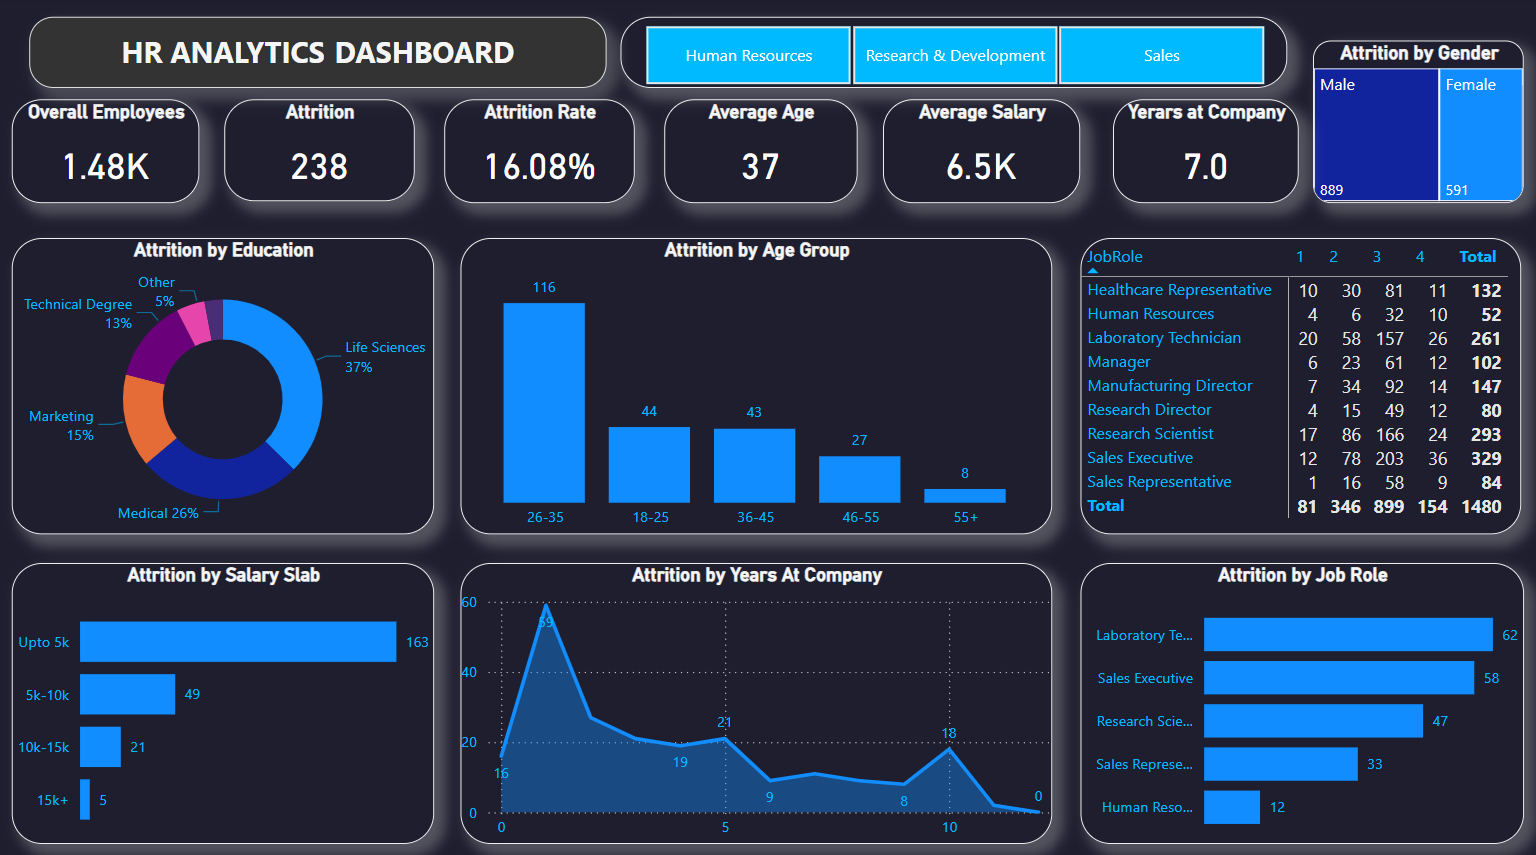

This screenshot's page, from the dashboard's own definition file:
{"tool":"powerbi","page":{"name":"Page 1","canvas":[1280,720],"ordinal":0},"visuals":[{"type":"cardVisual","title":"Attrition Rate","fields":{"Data":["HR_Analytics.Attrition Rate"]},"box":[370.9,83.7,158.1,86],"z":0},{"type":"cardVisual","title":"Attrition","fields":{"Data":["HR_Analytics.Attrition_Sum"]},"box":[188.4,83.7,158.1,84.9],"z":1000},{"type":"cardVisual","title":"Overall Employees","fields":{"Data":["Sum(HR_Analytics.Number of Employee)"]},"box":[11.6,83.7,155.8,86],"z":2000},{"type":"donutChart","title":"Attrition by Education","fields":{"Category":["HR_Analytics.EducationField"],"Y":["Sum(HR_Analytics.Attrition_Number)"]},"box":[11.6,200,351.2,246.5],"z":3000},{"type":"barChart","title":"Attrition by Salary Slab","fields":{"Category":["HR_Analytics.SalarySlab"],"Y":["Sum(HR_Analytics.Attrition_Number)"]},"box":[11.6,469.8,351.2,233.7],"z":4000},{"type":"barChart","title":"Attrition by Job Role","fields":{"Category":["HR_Analytics.JobRole"],"Y":["Sum(HR_Analytics.Attrition_Number)"]},"box":[900,469.8,368.6,233.7],"z":5000},{"type":"slicer","fields":{"Values":["HR_Analytics.Department"]},"box":[517.4,15.1,554.7,59.3],"z":6000},{"type":"pivotTable","fields":{"Columns":["HR_Analytics.WorkLifeBalance"],"Values":["CountNonNull(HR_Analytics.EnvironmentSatisfaction)"],"Rows":["HR_Analytics.JobRole"]},"box":[900,200,366.3,246.5],"z":7000},{"type":"columnChart","title":"Attrition by Age Group","fields":{"Y":["Sum(HR_Analytics.Attrition_Number)"],"Category":["HR_Analytics.AgeGroup"]},"box":[384.9,200,491.9,246.5],"z":8000},{"type":"areaChart","title":"Attrition by Years At Company","fields":{"Y":["Sum(HR_Analytics.Attrition_Number)"],"Category":["HR_Analytics.YearsAtCompany"]},"box":[384.9,469.8,491.9,233.7],"z":9000},{"type":"treemap","title":"Attrition by Gender","fields":{"Details":["HR_Analytics.Gender"],"Values":["CountNonNull(HR_Analytics.EmpID)"]},"box":[1093,34.9,175.6,134.9],"z":10000},{"type":"cardVisual","title":"Average Age","fields":{"Data":["Avg(HR_Analytics.Age)"]},"box":[553.5,83.7,160.5,86],"z":11000},{"type":"cardVisual","title":"Average Salary","fields":{"Data":["HR_Analytics.AvgSalary"]},"box":[736,83.7,164,86],"z":12000},{"type":"cardVisual","title":"Yerars at Company","fields":{"Data":["Avg(HR_Analytics.YearsAtCompany)"]},"box":[926.7,83.7,154.7,86],"z":13000},{"type":"textbox","box":[25.6,15.1,480.2,59.3],"z":14000}]}

Visuals, with their boxes in screenshot pixels (x1, y1, x2, y2), scaled from the page's 1280x720 canvas onto the 1536x855 screenshot:
"Attrition Rate" cardVisual: region(445, 99, 635, 202)
"Attrition" cardVisual: region(226, 99, 416, 200)
"Overall Employees" cardVisual: region(14, 99, 201, 202)
"Attrition by Education" donutChart: region(14, 238, 435, 530)
"Attrition by Salary Slab" barChart: region(14, 558, 435, 835)
"Attrition by Job Role" barChart: region(1080, 558, 1522, 835)
slicer - HR_Analytics.Department: region(621, 18, 1287, 88)
pivotTable - HR_Analytics.WorkLifeBalance x CountNonNull(HR_Analytics.EnvironmentSatisfaction): region(1080, 238, 1520, 530)
"Attrition by Age Group" columnChart: region(462, 238, 1052, 530)
"Attrition by Years At Company" areaChart: region(462, 558, 1052, 835)
"Attrition by Gender" treemap: region(1312, 41, 1522, 202)
"Average Age" cardVisual: region(664, 99, 857, 202)
"Average Salary" cardVisual: region(883, 99, 1080, 202)
"Yerars at Company" cardVisual: region(1112, 99, 1298, 202)
textbox: region(31, 18, 607, 88)
